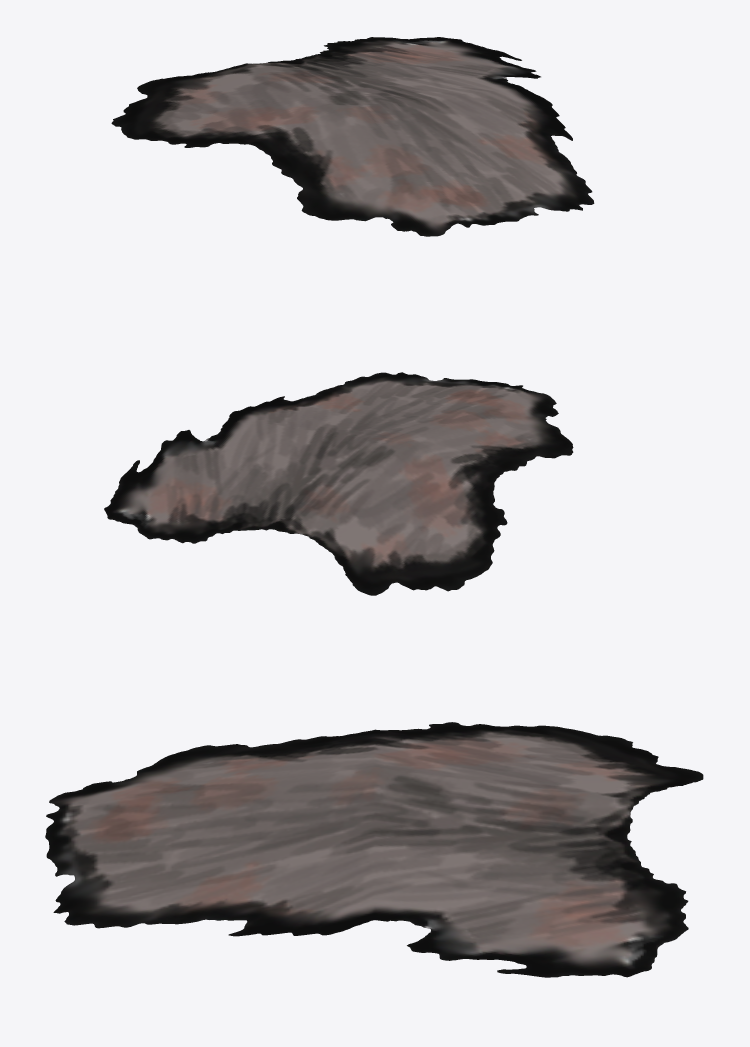
The model's file is GAM_LootPelt.FBX.
The picture shows the model from 3 angles, top to bottom: view 1: azimuth 30°, elevation 25°; view 2: azimuth 150°, elevation 25°; view 3: azimuth 270°, elevation 25°; orthographic projection. The views are drawn at different scales.
Visible parts, largest first — view 1: GAM_LootPelt; view 2: GAM_LootPelt; view 3: GAM_LootPelt.
Boxes of the visible parts, x1,y1,x2,y2 form: GAM_LootPelt: (111,37,594,236); GAM_LootPelt: (104,372,573,595); GAM_LootPelt: (45,722,703,977).
Size of the model in its own units: 50 by 6.82 by 50.
1 material, 1 textured.
